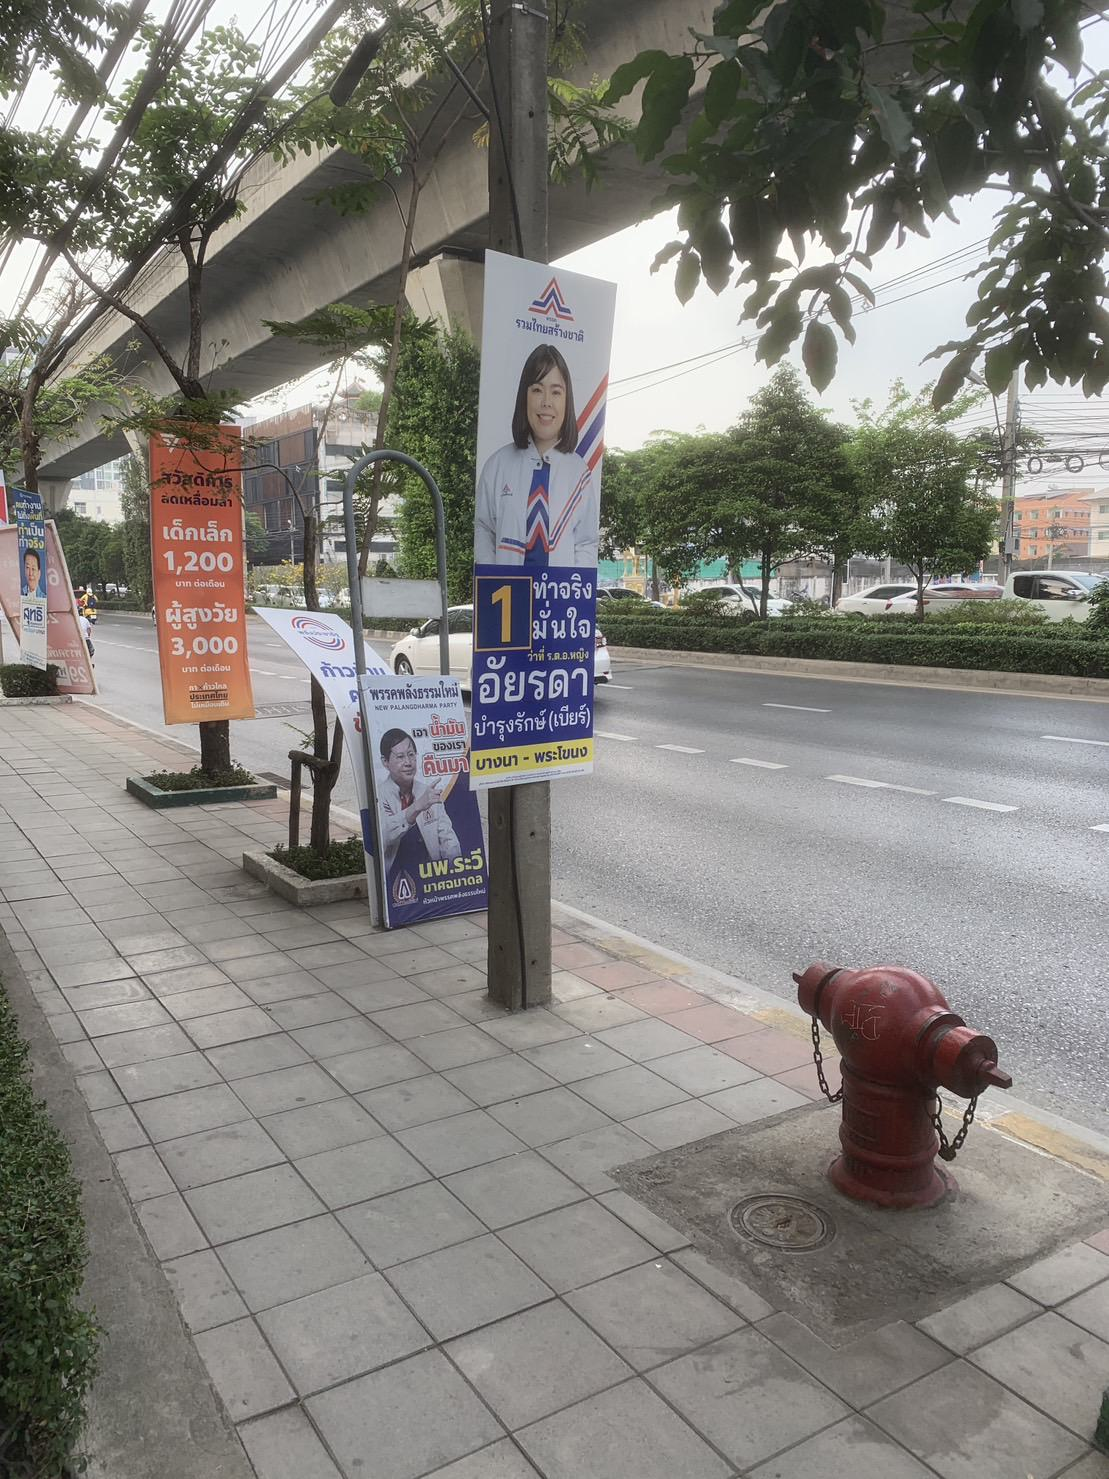Banner: (483, 248, 603, 778), (346, 653, 494, 933), (137, 399, 257, 734)
